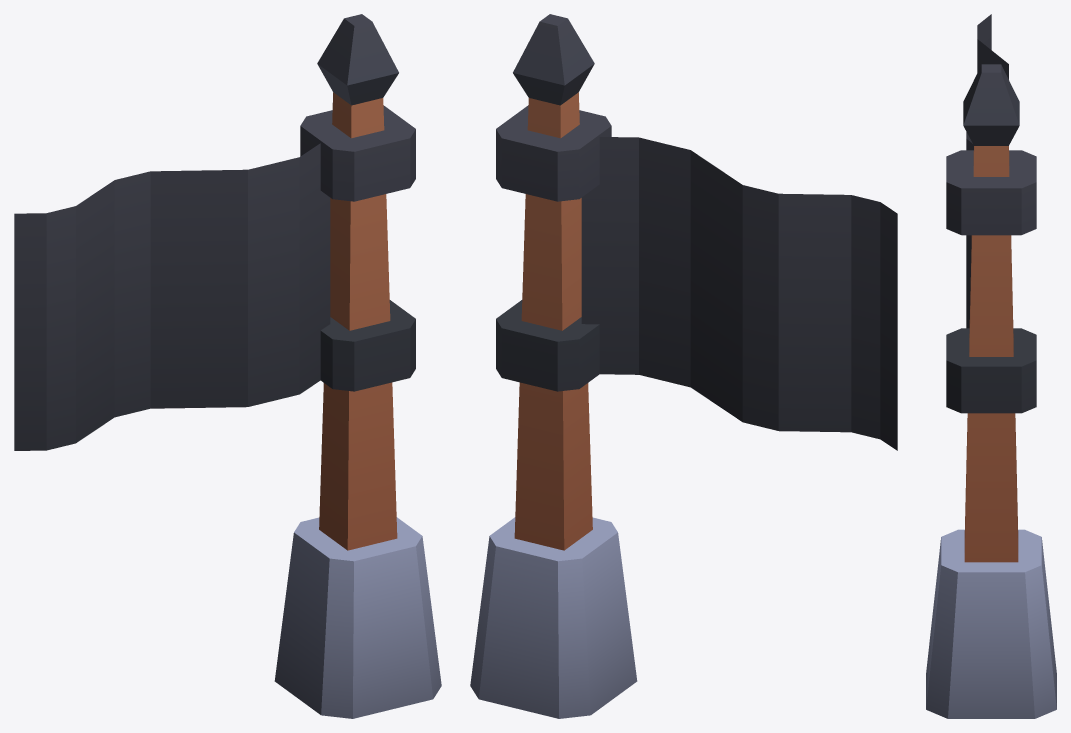
The model's file is flag-pirate.glb.
3 views of the same model, side by side, from view 1: azimuth 30°, elevation 25°; view 2: azimuth 150°, elevation 25°; view 3: azimuth 270°, elevation 25° (orthographic). The views are drawn at different scales.
Visible parts, largest first — view 1: geometry_0; view 2: geometry_0; view 3: geometry_0.
Part boxes in pixels (x1=…): geometry_0: x1=14, y1=14, x2=441, y2=718; geometry_0: x1=470, y1=14, x2=897, y2=718; geometry_0: x1=926, y1=14, x2=1056, y2=718.
Bounding box in the file's own units: 1.03 × 1.62 × 0.3082.
